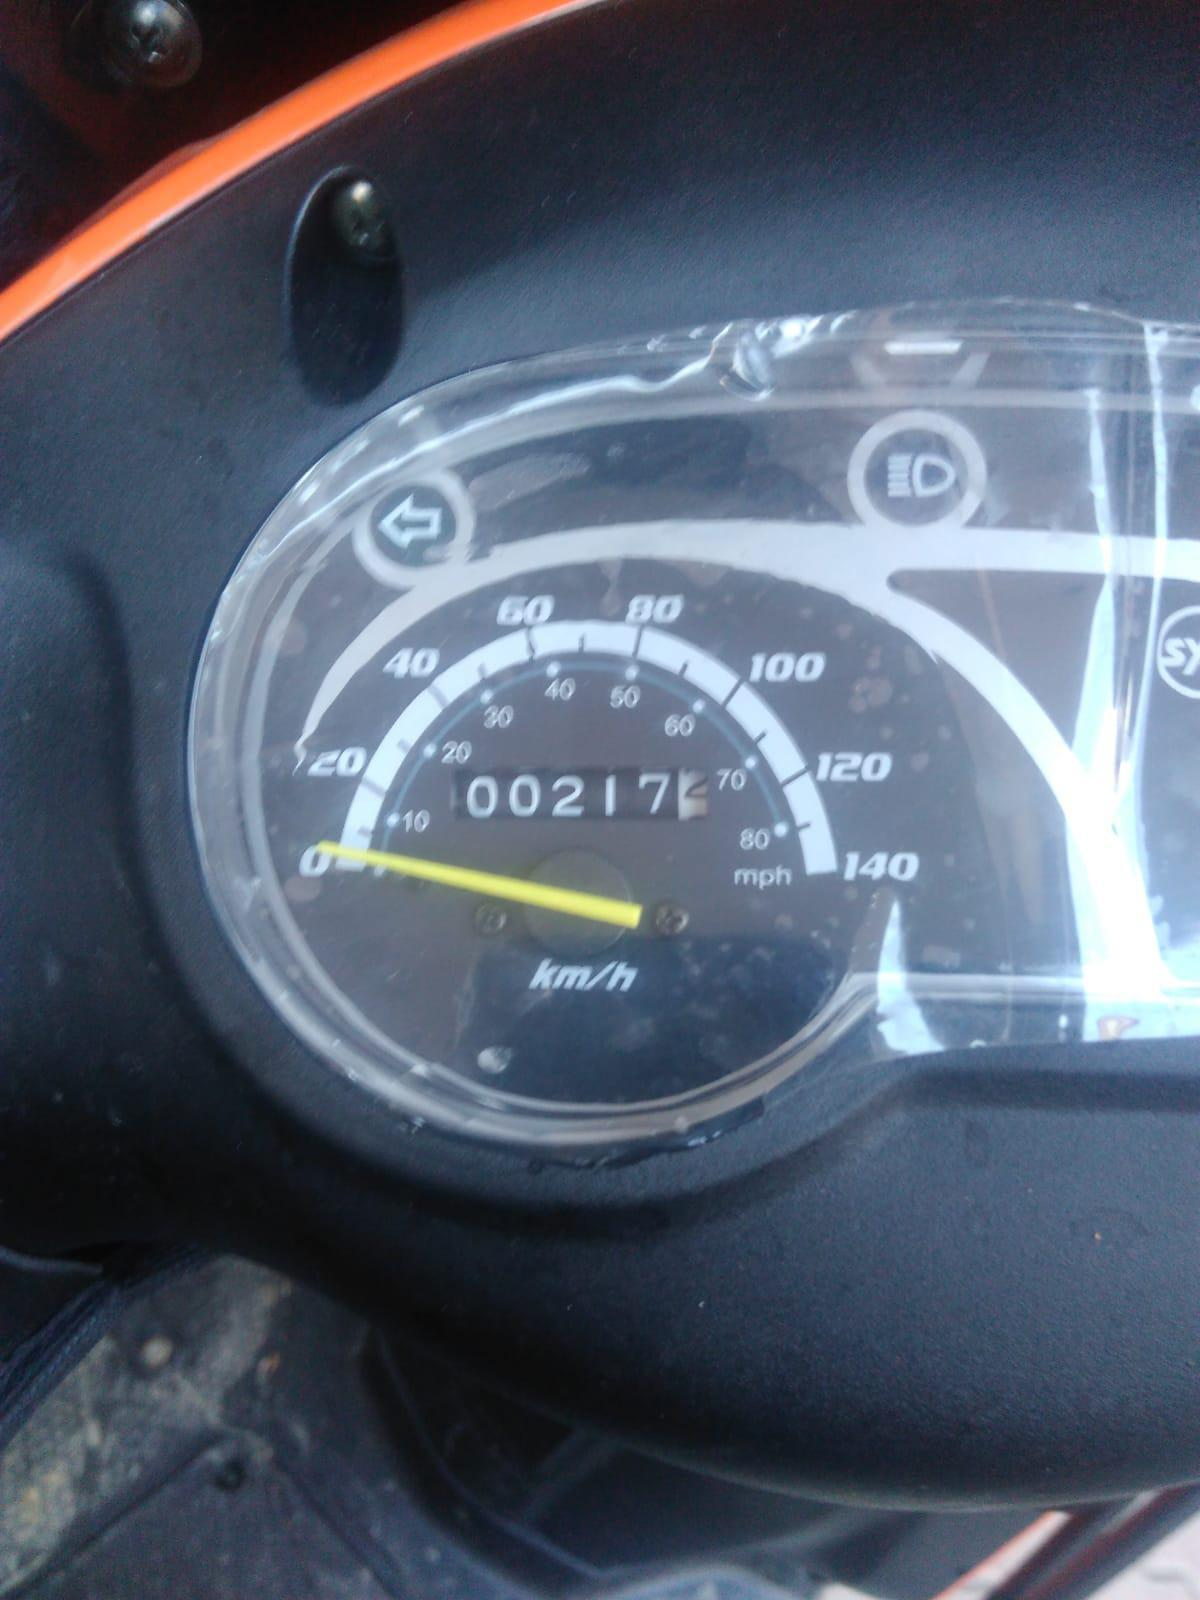0: (464, 774, 498, 818), (508, 772, 541, 816)
1: (603, 774, 616, 816)
2: (550, 774, 586, 816), (683, 763, 710, 799)
7: (637, 772, 672, 815)
odometer: (447, 763, 717, 826)
